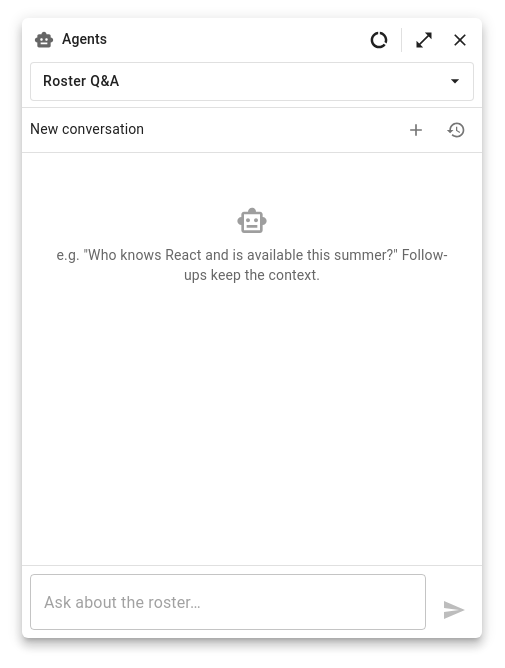
Test: Roster Q&A threading › carries the returned threadId into the follow-up question
The image size is (505, 668).
Step 1. Type "Who knows React?" into the text box with placeholder "Ask about the roster…" → (228, 602), box 44,590 -> 412,614
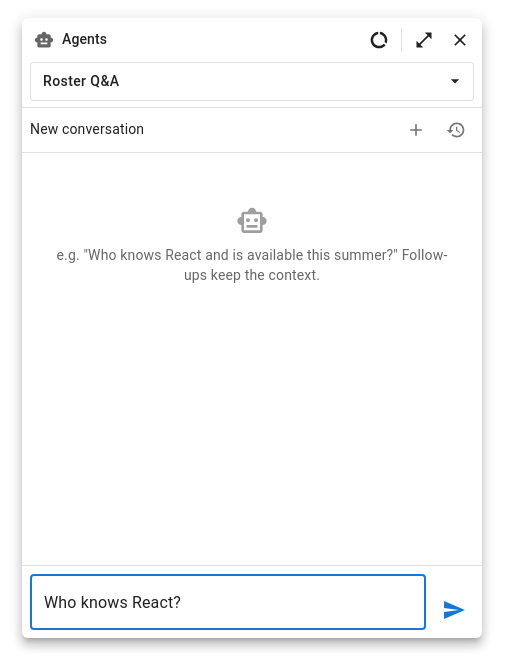
Step 2. Click the button named "Send" → (454, 610), box 434,590 -> 474,630
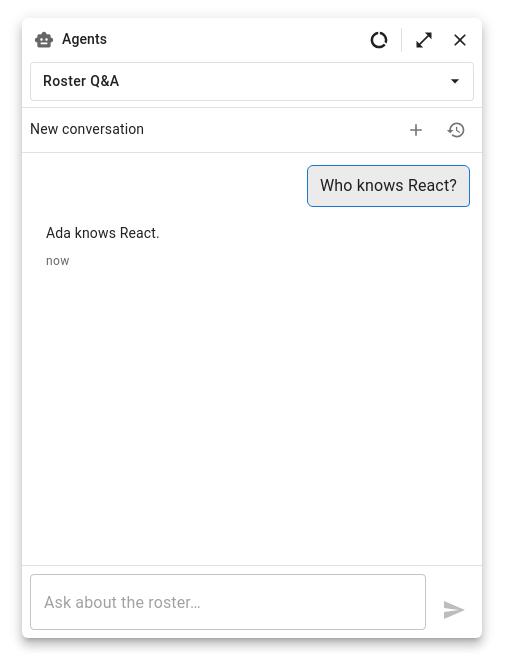
Expected: the text "Ada knows React." is shown, 46,222 -> 160,244
Step 3. Type "Are they free in July?" into the text box with placeholder "Ask about the roster…" → (228, 602), box 44,590 -> 412,614
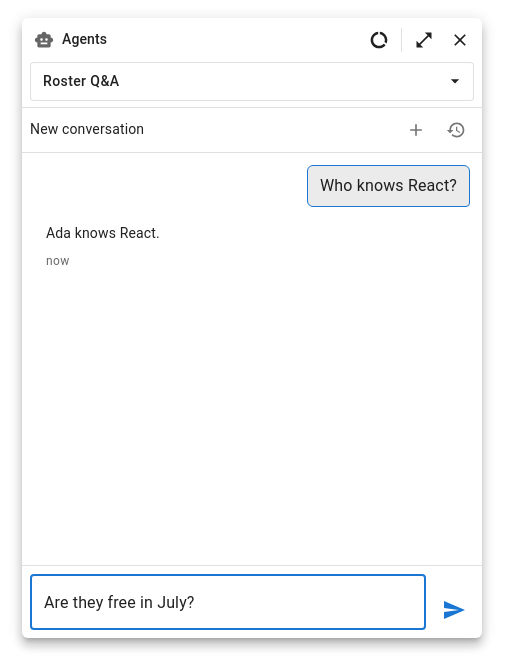
Step 4. Click the button named "Send" → (454, 610), box 434,590 -> 474,630
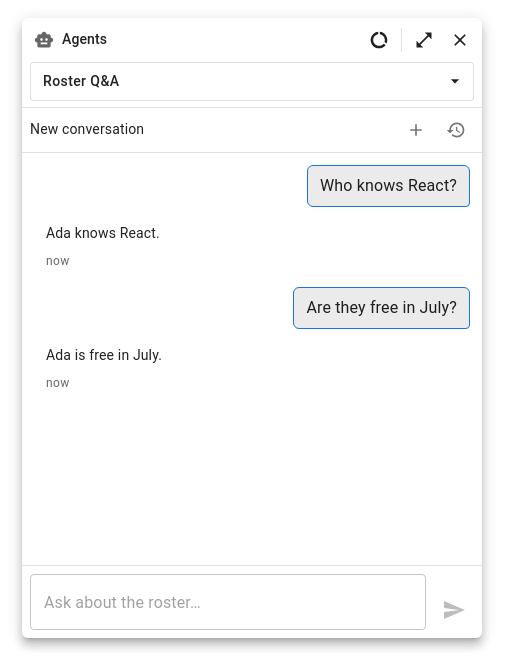
Expected: the text "Ada is free in July." is shown, 46,345 -> 162,366
